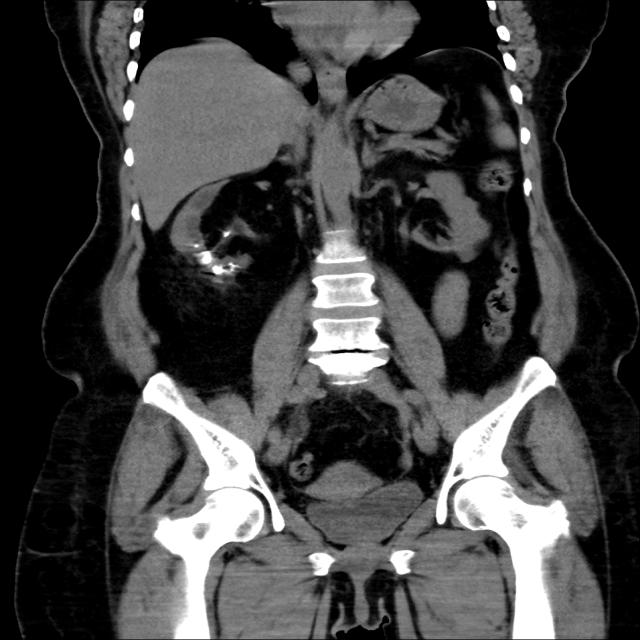kidneystone: (201, 251, 213, 264), (223, 230, 230, 237)
